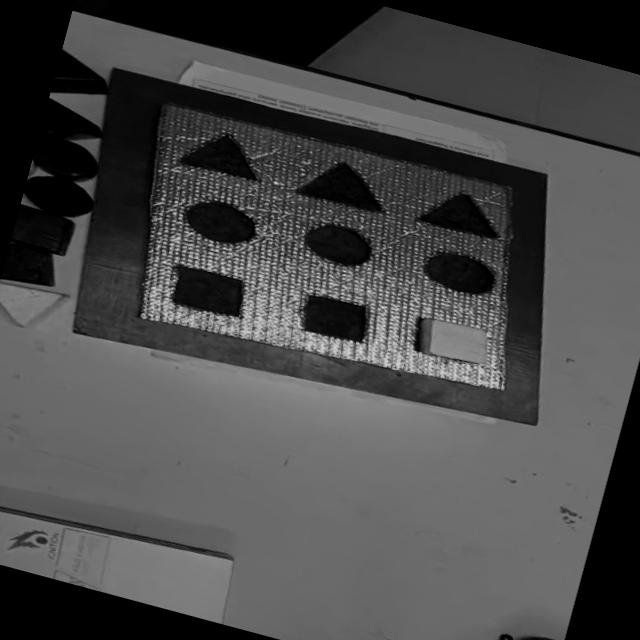bcircle: (20, 168, 99, 224)
bcube: (0, 240, 62, 294)
btriangle: (37, 98, 106, 154)
mtcircle: (178, 193, 263, 252), (417, 245, 500, 302), (298, 218, 376, 272)
mtcube: (164, 261, 250, 322), (294, 289, 374, 347)
mttriangle: (295, 152, 392, 218), (418, 182, 508, 244), (178, 124, 268, 186)
rcircle: (30, 133, 104, 187)
rcube: (10, 202, 79, 258)
rtriangle: (50, 47, 116, 110)
wb: (104, 90, 556, 414)
ycube: (411, 311, 497, 371)
ytriangle: (0, 277, 70, 337)
